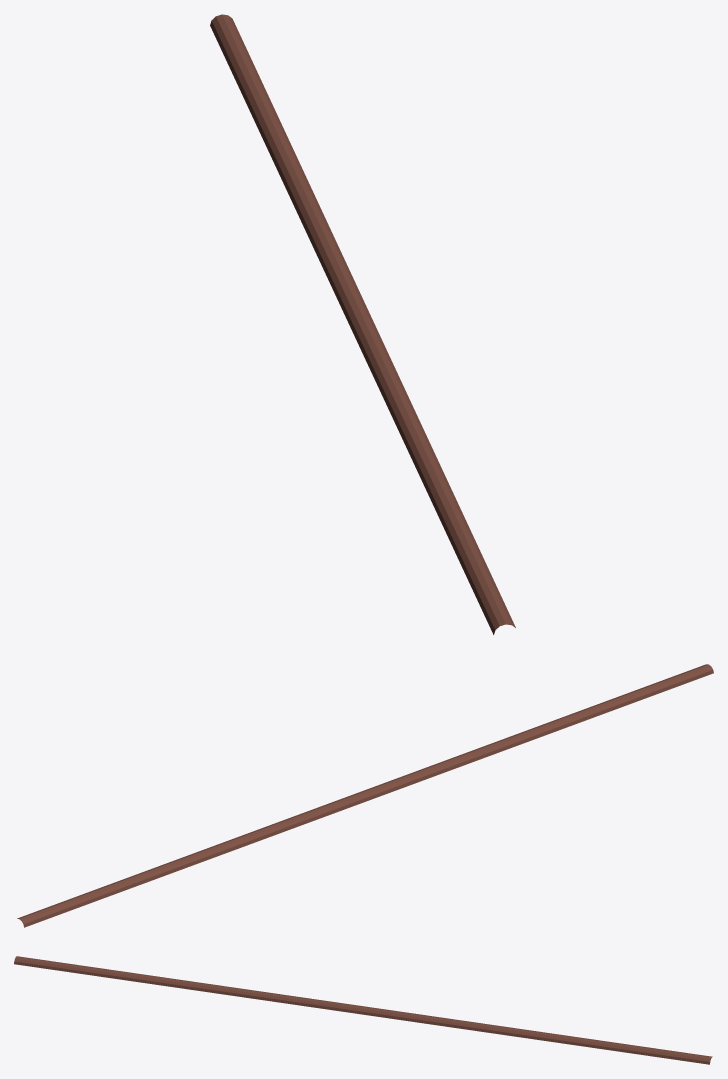
The picture shows the model from 3 angles, top to bottom: view 1: azimuth 30°, elevation 25°; view 2: azimuth 150°, elevation 25°; view 3: azimuth 270°, elevation 25°; orthographic projection. The views are drawn at different scales.
Visible parts, largest first — view 1: detail; view 2: detail; view 3: detail.
Boxes of the visible parts, box(x1,y1,x2,y2) form: detail: box(210, 14, 515, 634); detail: box(17, 664, 713, 927); detail: box(14, 956, 712, 1064).
Size of the model in its own units: 6.07 by 0.1351 by 17.02.
